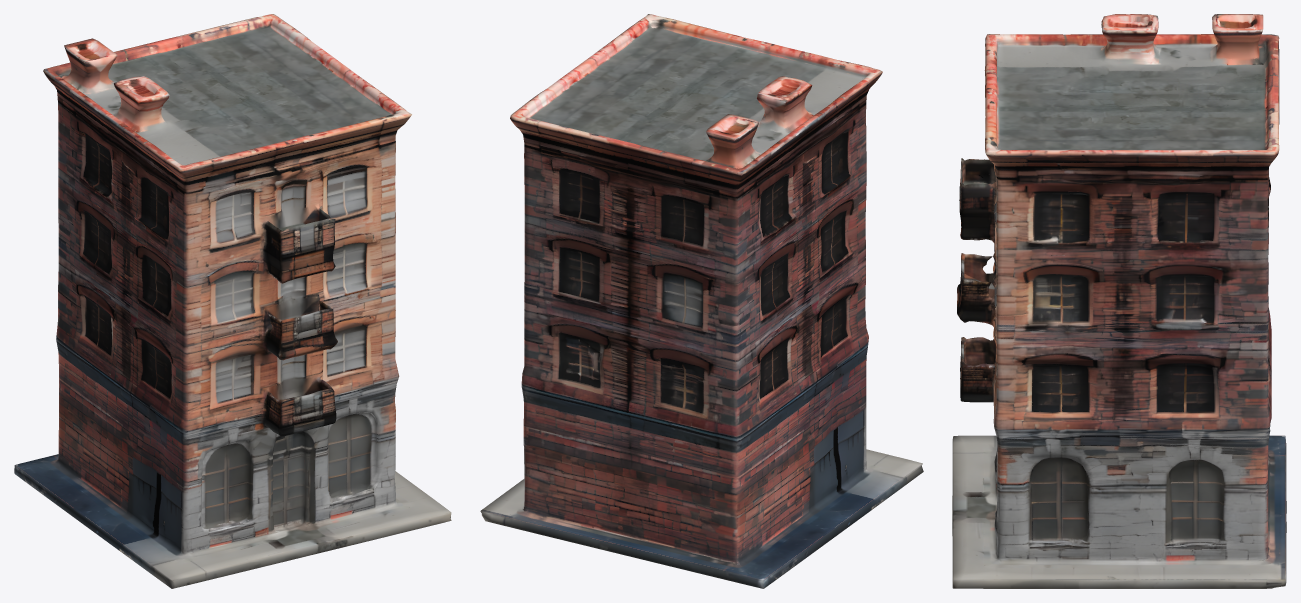
Rendered from base_basic_pbr.fbx.
The picture shows the model from 3 angles, left to right: view 1: azimuth 30°, elevation 25°; view 2: azimuth 150°, elevation 25°; view 3: azimuth 270°, elevation 25°; orthographic projection. The views are drawn at different scales.
Parts seen in each view (by area): view 1: model; view 2: model; view 3: model.
Boxes of the visible parts, left/top/right/bottom form: model: left=14, top=14, right=451, bottom=588; model: left=480, top=14, right=923, bottom=588; model: left=952, top=14, right=1286, bottom=588.
Size of the model in its own units: 130 by 190 by 127.
Materials: 1 (1 with a texture image).
